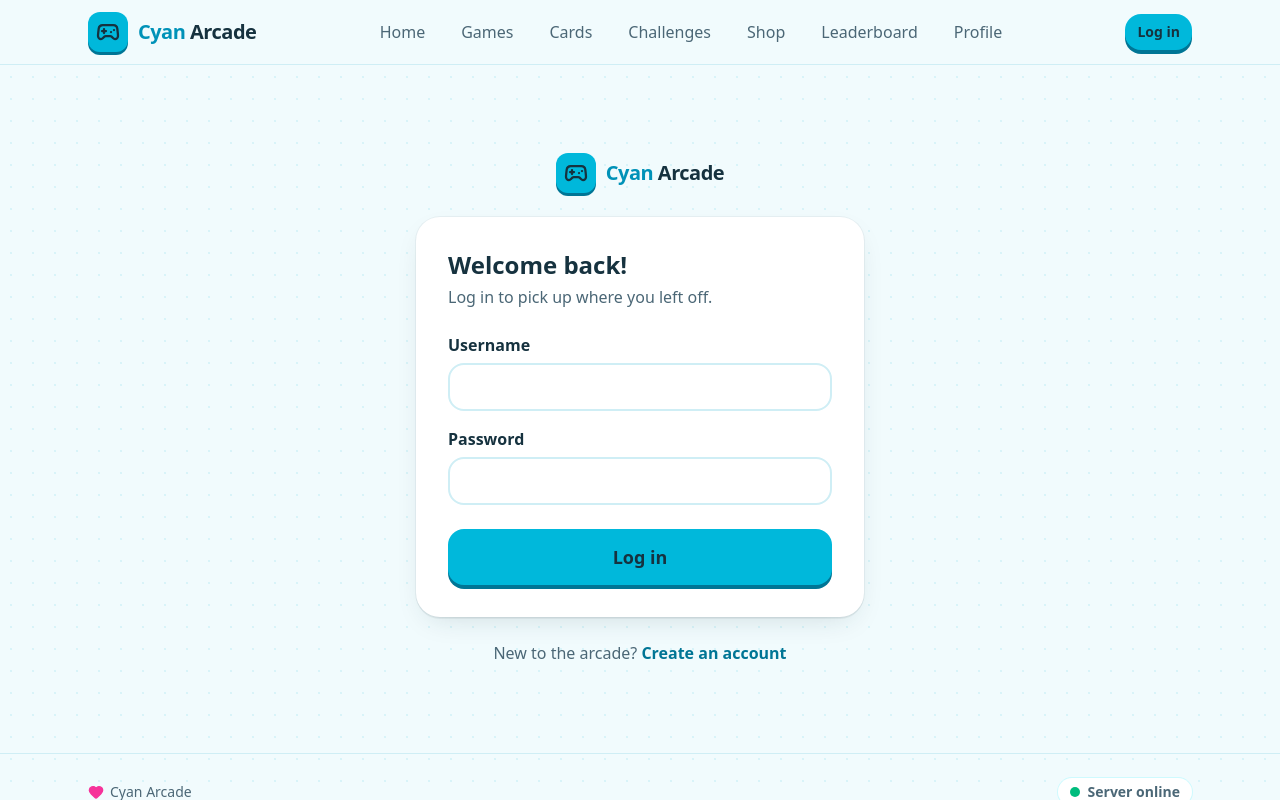
Scenario: logging in › explains a wrong password without saying which part was wrong, and stays on the page
Type "pixel" into the field labelled "Username". click: (640, 387)
box: left=448, top=363, right=832, bottom=411
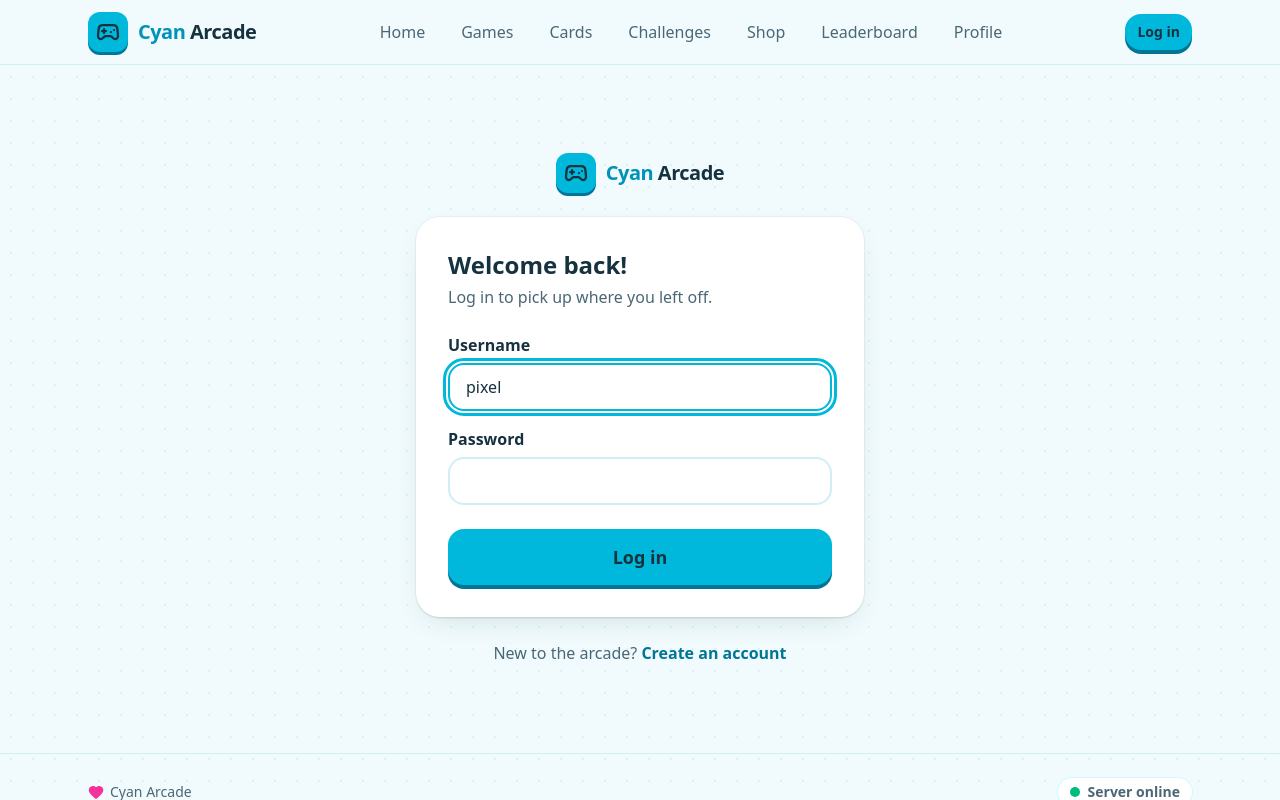
Type "not-the-password" into the password field labelled "Password". click: (640, 481)
box: left=448, top=457, right=832, bottom=505
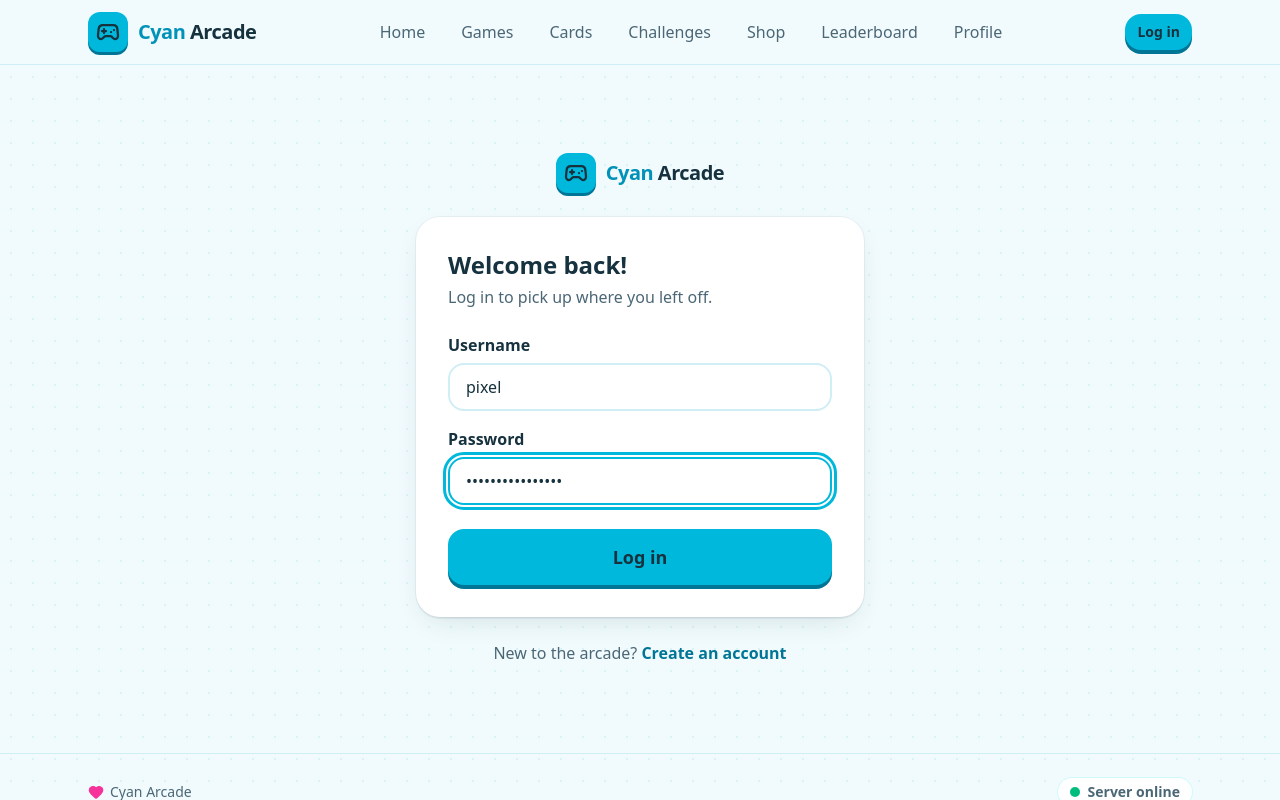
Click the button "Log in". click: click(640, 557)
box: left=448, top=529, right=832, bottom=585
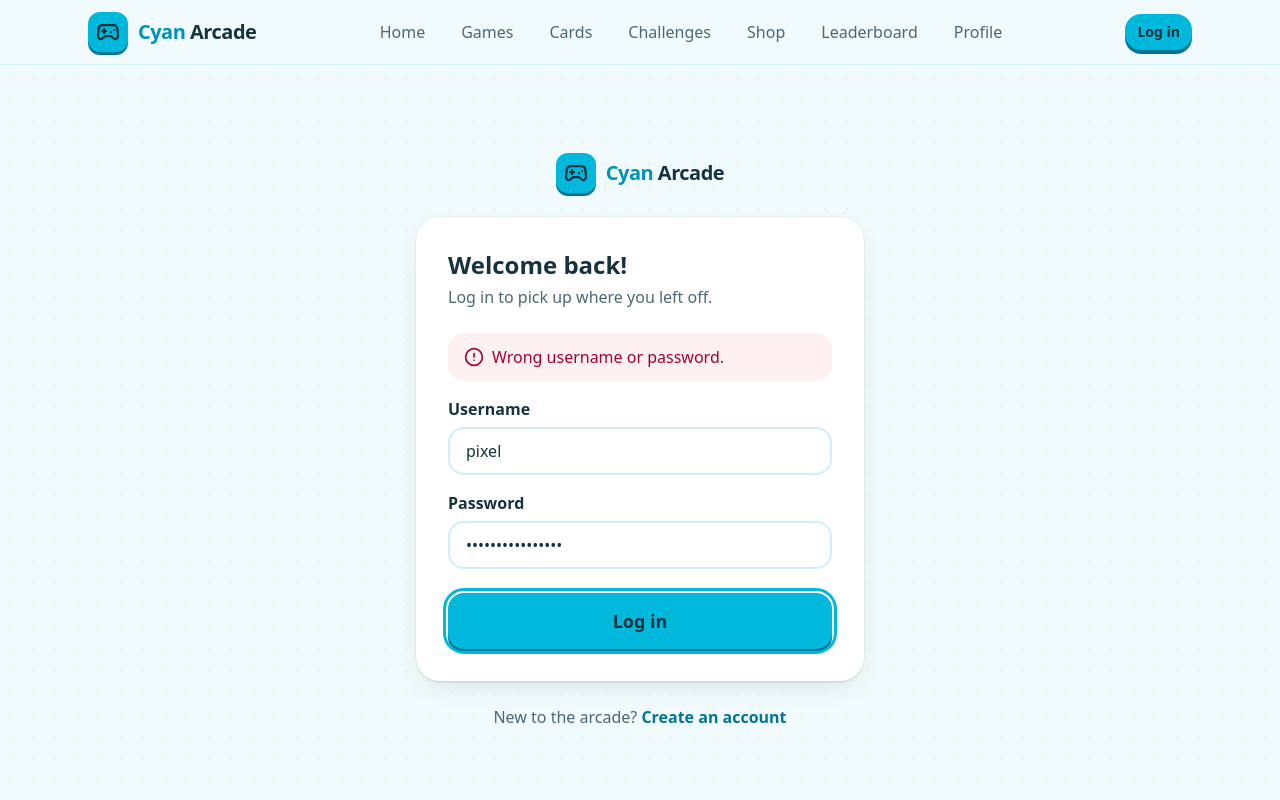
Expected: the heading "Welcome back!" is shown, left=448, top=248, right=627, bottom=281
Result: the message reads "Wrong username or password." at left=492, top=346, right=724, bottom=368
